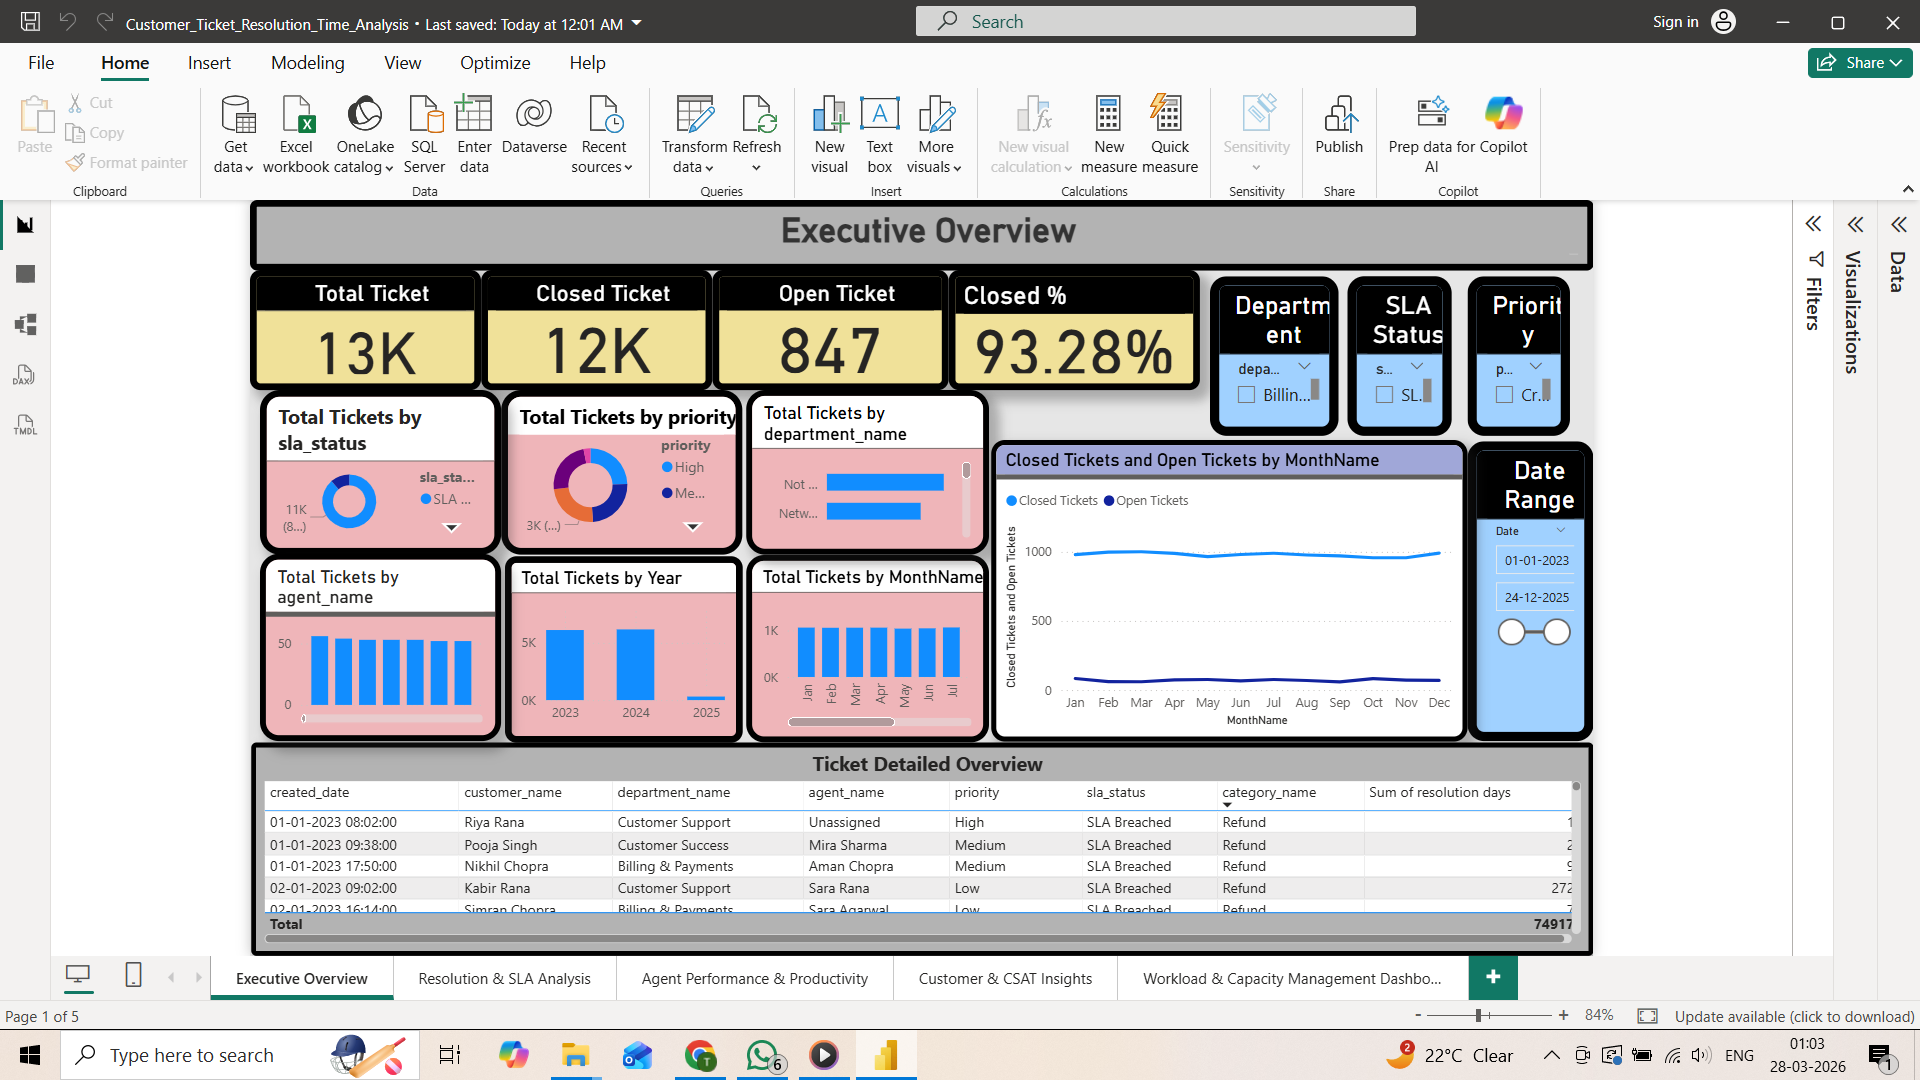

What the dashboard file says about the page in this screenshot:
{"tool":"powerbi","page":{"name":"Executive Overview","canvas":[1280,720],"ordinal":0},"visuals":[{"type":"card","title":"Total Ticket","fields":{"Values":["all_measures.Total Tickets"]},"box":[0,66.7,220.2,114.3],"z":0},{"type":"card","title":"Closed Ticket","fields":{"Values":["all_measures.Closed Tickets"]},"box":[220.2,66.7,220.2,114.3],"z":1000},{"type":"card","title":"Open Ticket","fields":{"Values":["all_measures.Open Tickets"]},"box":[440.5,66.7,225,114.3],"z":2000},{"type":"card","title":"Closed %","fields":{"Values":["all_measures.Closed %"]},"box":[665.5,66.7,239.3,114.3],"z":3000},{"type":"slicer","title":"Date Range","fields":{"Values":["DateTable.Date"]},"box":[1159.5,229.8,120.2,285.7],"z":4000},{"type":"actionButton","box":[0,0,100,40],"z":5000},{"type":"slicer","title":"Priority","fields":{"Values":["tickets.priority"]},"box":[1159.5,72.6,97.6,152.4],"z":6000},{"type":"slicer","title":"Department","fields":{"Values":["departments.department_name"]},"box":[914.3,72.6,122.6,152.4],"z":7000},{"type":"slicer","title":"SLA Status","fields":{"Values":["tickets.sla_status"]},"box":[1045.2,72.6,98.8,152.4],"z":8000},{"type":"clusteredColumnChart","fields":{"Category":["tickets.Year"],"Y":["all_measures.Total Tickets"]},"box":[242.9,339.3,226.2,177.4],"z":9000},{"type":"clusteredColumnChart","fields":{"Category":["DateTable.MonthName"],"Y":["all_measures.Total Tickets"]},"box":[472.6,338.1,231,178.6],"z":10000},{"type":"donutChart","fields":{"Category":["tickets.priority"],"Y":["all_measures.Total Tickets"]},"box":[239.3,181,229.8,157.1],"z":11000},{"type":"donutChart","fields":{"Category":["tickets.sla_status"],"Y":["all_measures.Total Tickets"]},"box":[9.5,181,229.8,157.1],"z":12000},{"type":"clusteredBarChart","fields":{"Y":["all_measures.Total Tickets"],"Category":["departments.department_name"]},"box":[472.6,181,231,157.1],"z":13000},{"type":"lineChart","fields":{"Category":["DateTable.MonthName"],"Y":["all_measures.Closed Tickets","all_measures.Open Tickets"]},"box":[706,228.6,453.6,286.9],"z":14000},{"type":"tableEx","title":"Ticket Detailed Overview","fields":{"Values":["tickets.created_date","customers.customer_name","departments.department_name","tickets.agents.agent_name","tickets.priority","tickets.sla_status","ticket_category.category_name","Sum(tickets.resolution days)"]},"box":[1.2,516.7,1278.6,203.6],"z":15000},{"type":"clusteredColumnChart","fields":{"Category":["agents.agent_name"],"Y":["all_measures.Total Tickets"]},"box":[9.5,336.9,229.8,178.6],"z":16000},{"type":"textbox","title":"Executive Overview","box":[0,0,1280,67.1],"z":17000}]}

Visuals, with their boxes on the page's 1280x720 design canvas (x1, y1, x2, y2). These are canvas units, not pixel positions in the 1920x1080 screenshot, which may show the page scaled, cropped or inside an application window:
"Total Ticket" card: 0,67,220,181
"Closed Ticket" card: 220,67,440,181
"Open Ticket" card: 440,67,666,181
"Closed %" card: 666,67,905,181
"Date Range" slicer: 1160,230,1280,516
actionButton: 0,0,100,40
"Priority" slicer: 1160,73,1257,225
"Department" slicer: 914,73,1037,225
"SLA Status" slicer: 1045,73,1144,225
clusteredColumnChart - tickets.Year x all_measures.Total Tickets: 243,339,469,517
clusteredColumnChart - DateTable.MonthName x all_measures.Total Tickets: 473,338,704,517
donutChart - tickets.priority x all_measures.Total Tickets: 239,181,469,338
donutChart - tickets.sla_status x all_measures.Total Tickets: 10,181,239,338
clusteredBarChart - all_measures.Total Tickets x departments.department_name: 473,181,704,338
lineChart - DateTable.MonthName x all_measures.Closed Tickets: 706,229,1160,516
"Ticket Detailed Overview" tableEx: 1,517,1280,720
clusteredColumnChart - agents.agent_name x all_measures.Total Tickets: 10,337,239,516
"Executive Overview" textbox: 0,0,1280,67
